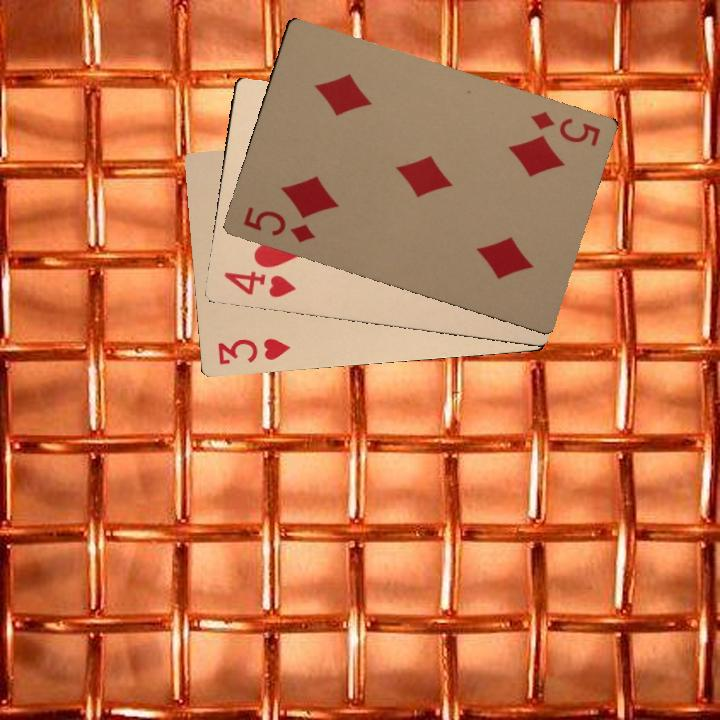3h: (213, 334, 292, 367)
4h: (220, 266, 298, 300)
5d: (239, 203, 317, 245), (527, 107, 604, 149)
